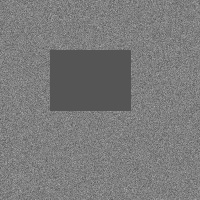patches: (30, 30, 170, 170)
